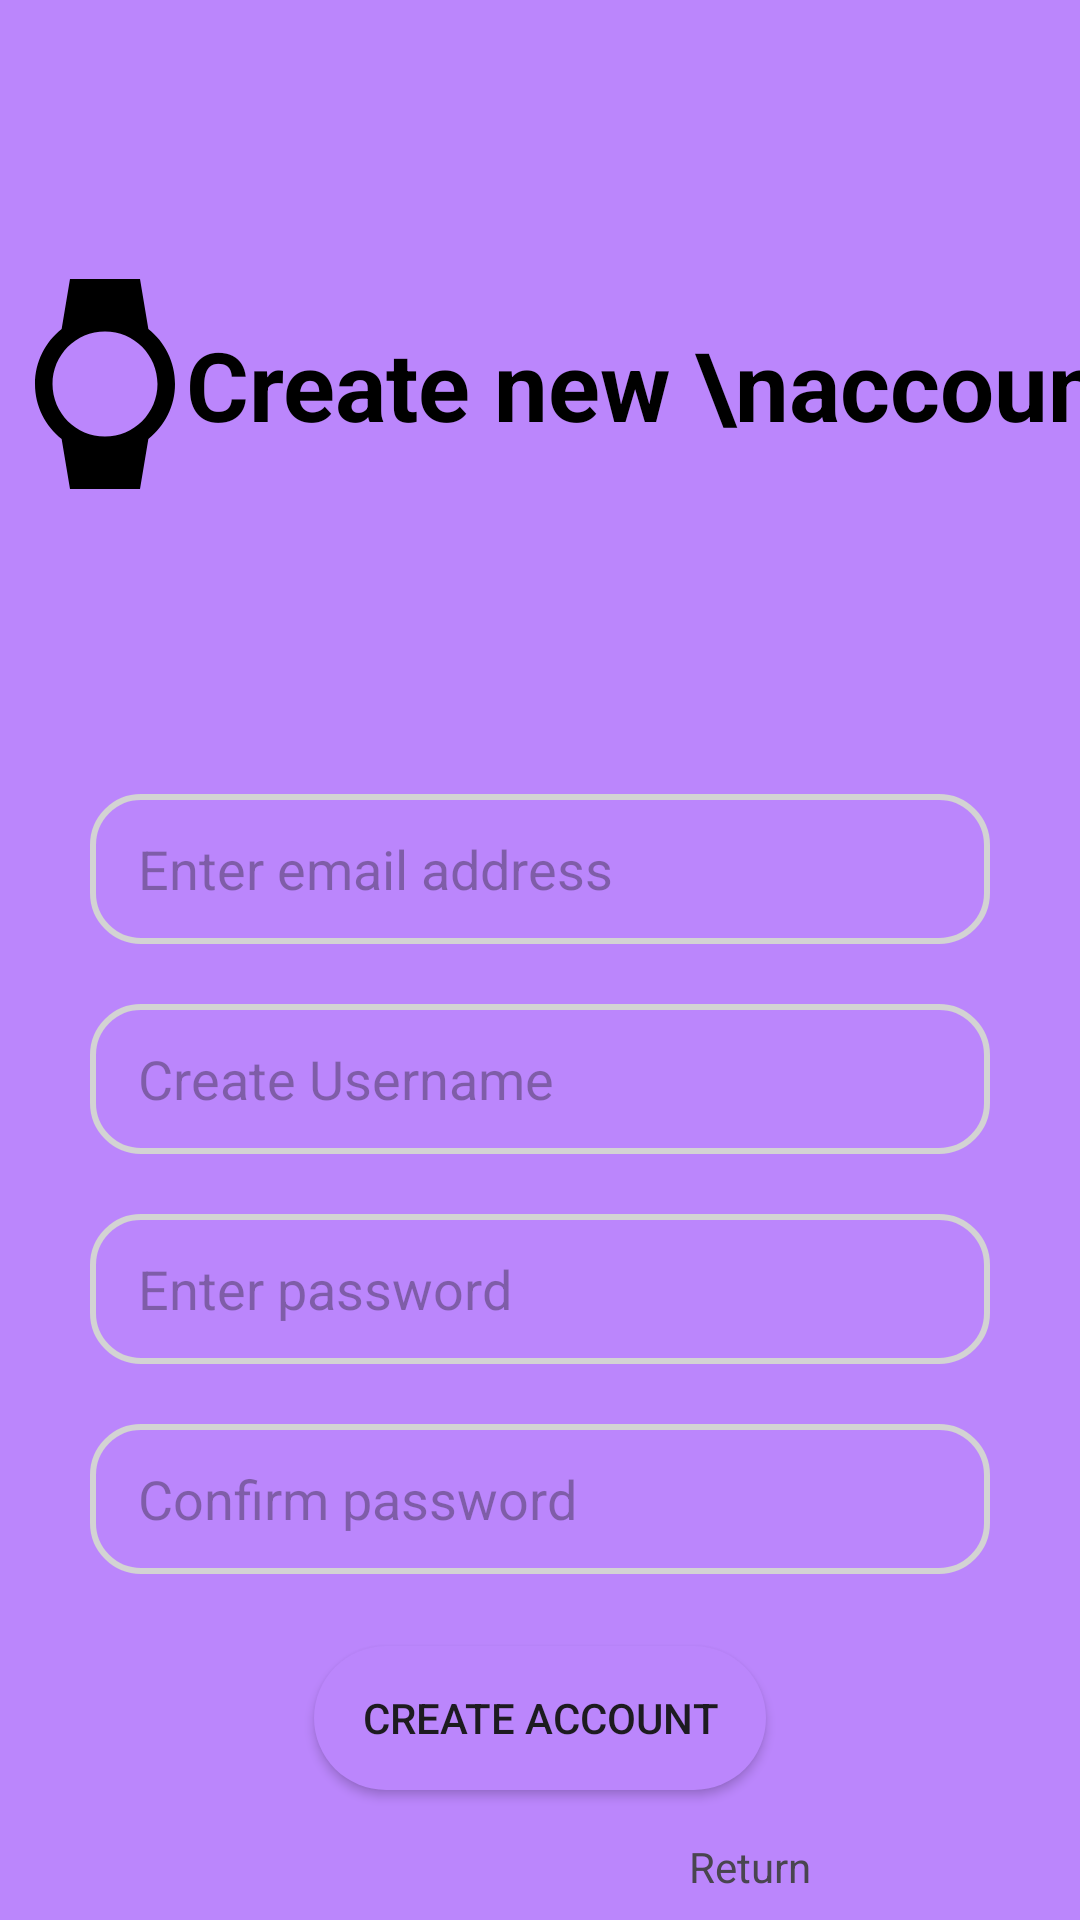

Screen size 1080w x 1920h. Icon name, then its box in pixels as [x1=x1, y1=y1, x2=x2, y2=y2]:
wristwatch: [x1=35, y1=279, x2=175, y2=489]
